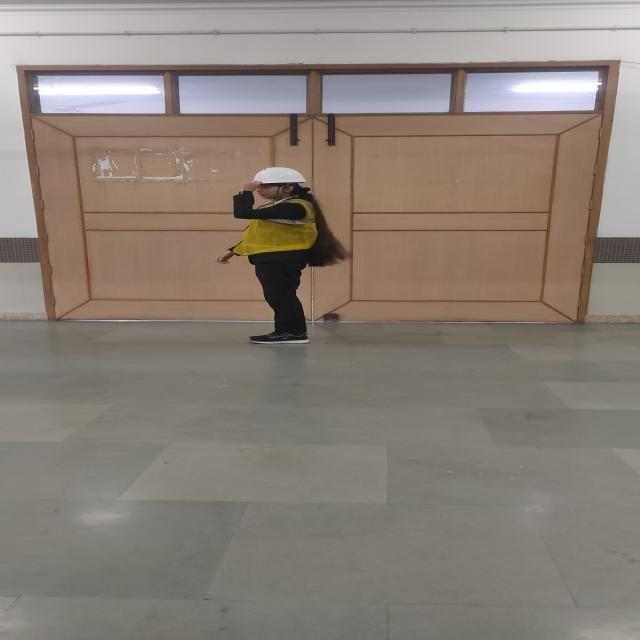safe: (234, 167, 319, 344)
